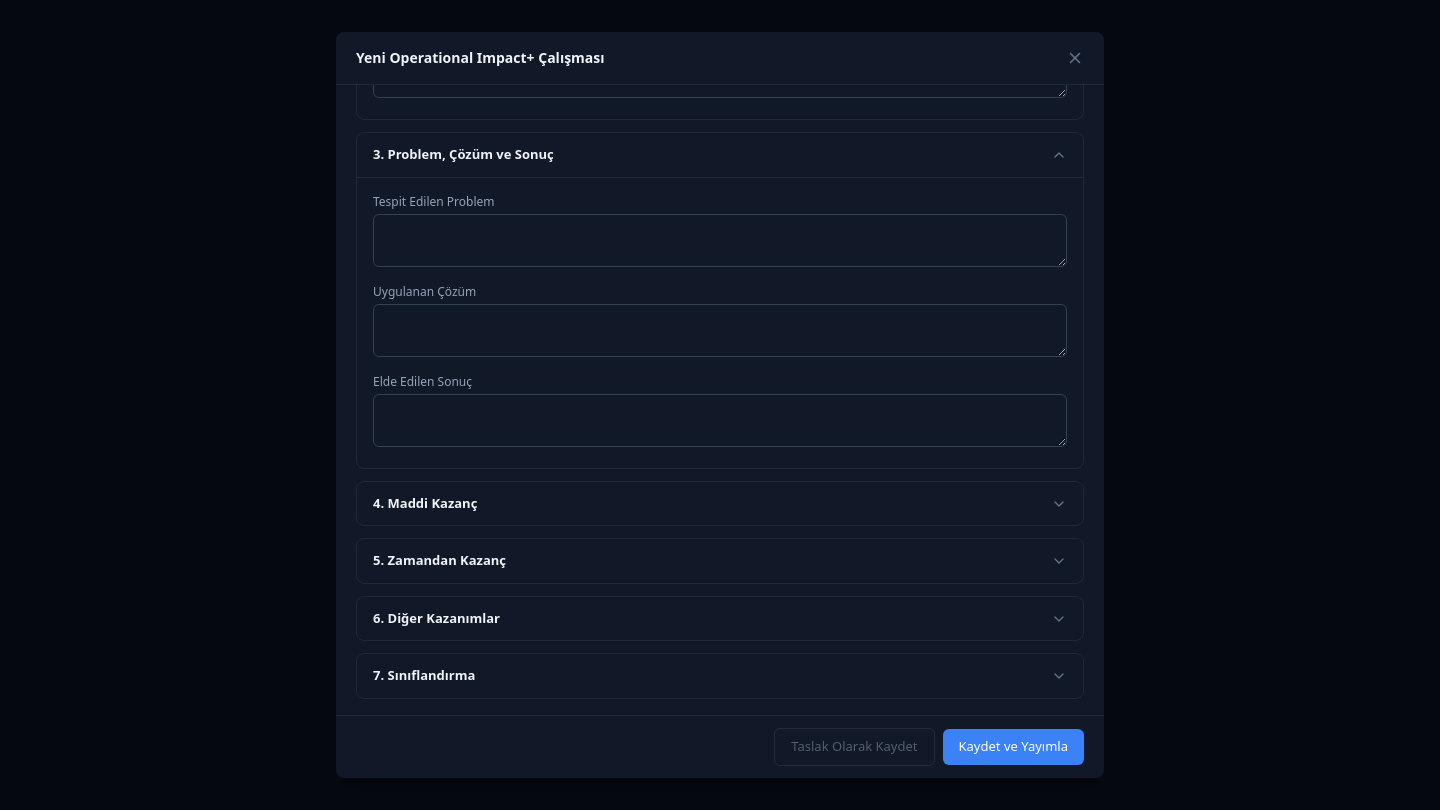
Test: ContributionWorkForm accessibility › gives each 'Diğer Kazanımlar' row its own uniquely addressable fields, with a named remove button
This screenshot has width=1440, height=810.
(page scrolled)
Click the button "6. Diğer Kazanımlar": (436,618) [357,597,1083,640]
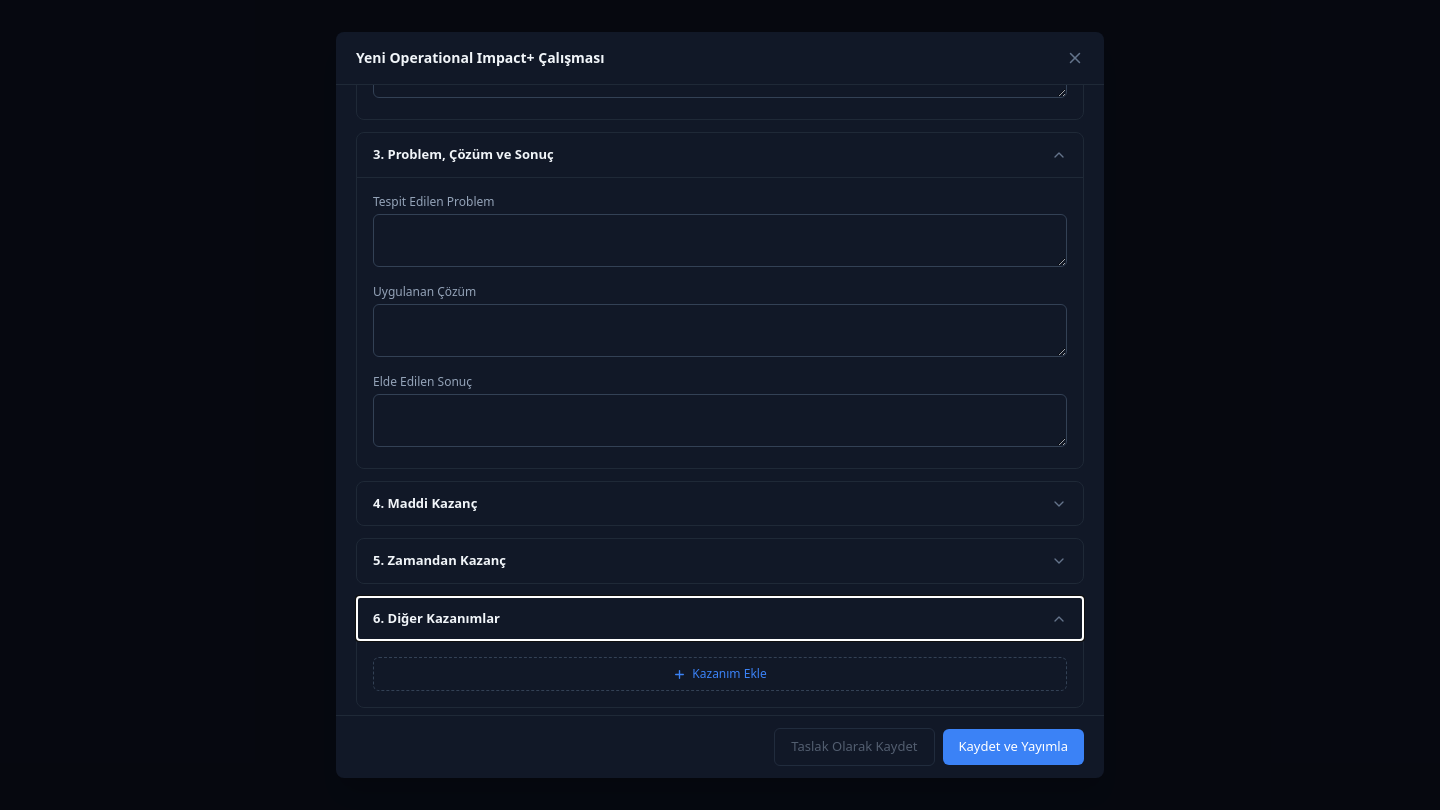
Click the button "Kazanım Ekle": (720,674) [373,657,1067,691]
(page scrolled)
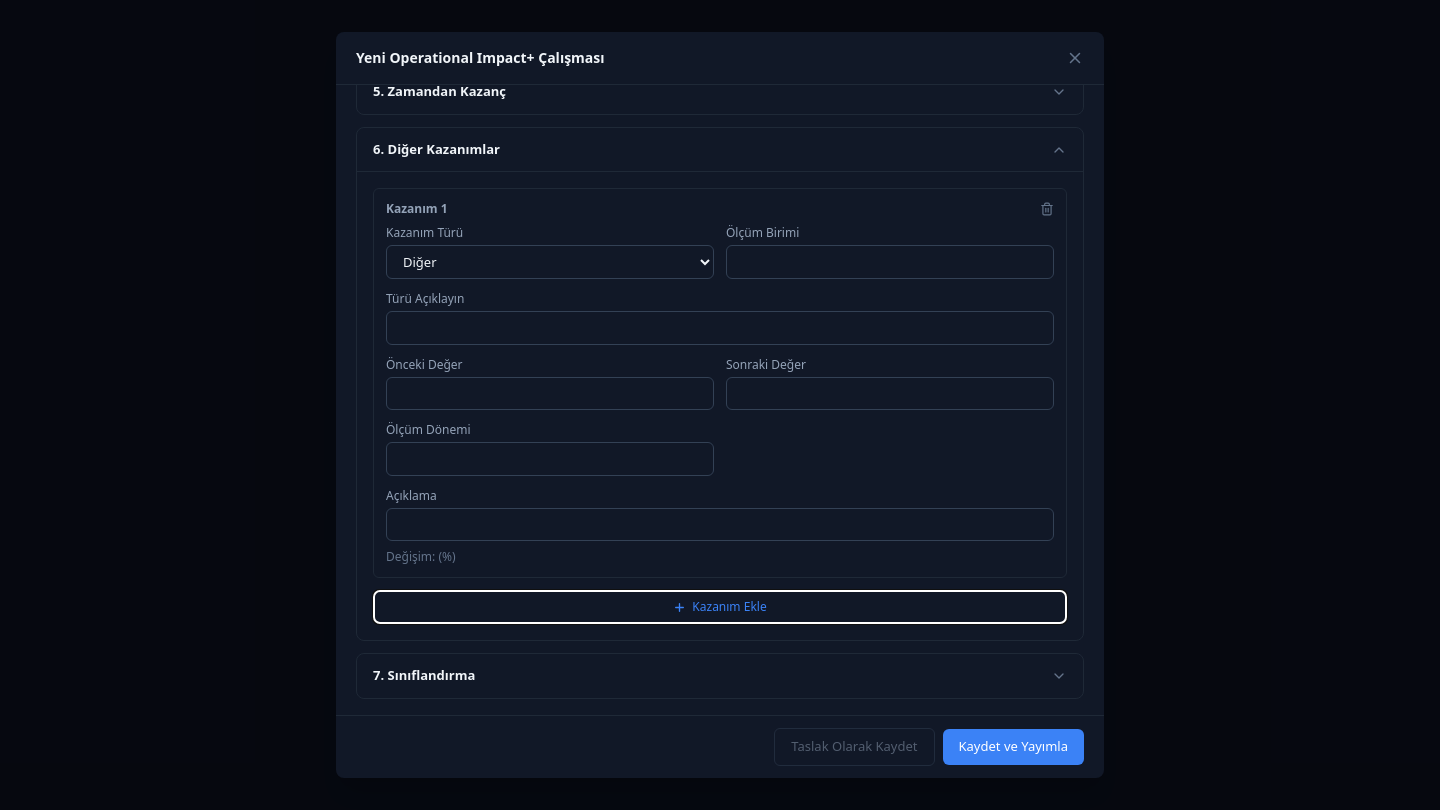
Click the button "Kazanım Ekle": (720,607) [373,590,1067,624]
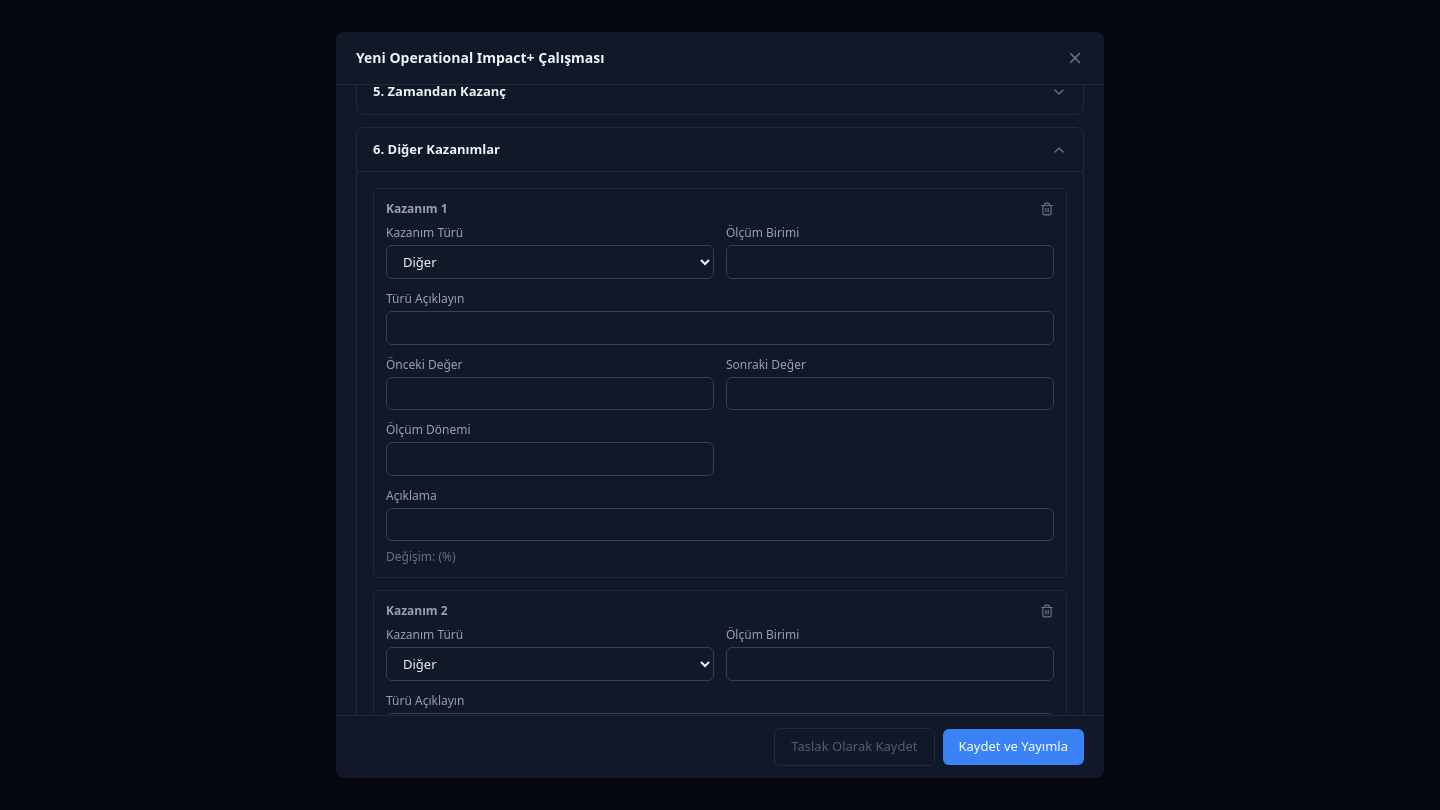
Result: the button named "Kazanım 1 kaldır" is shown at [1040,202,1054,216]
Result: the number of dropdowns labelled "Kazanım Türü" is 2 at [386,245,714,279]; [386,647,714,681]
Result: the button named "Kazanım 2 kaldır" is shown at [1040,604,1054,618]
